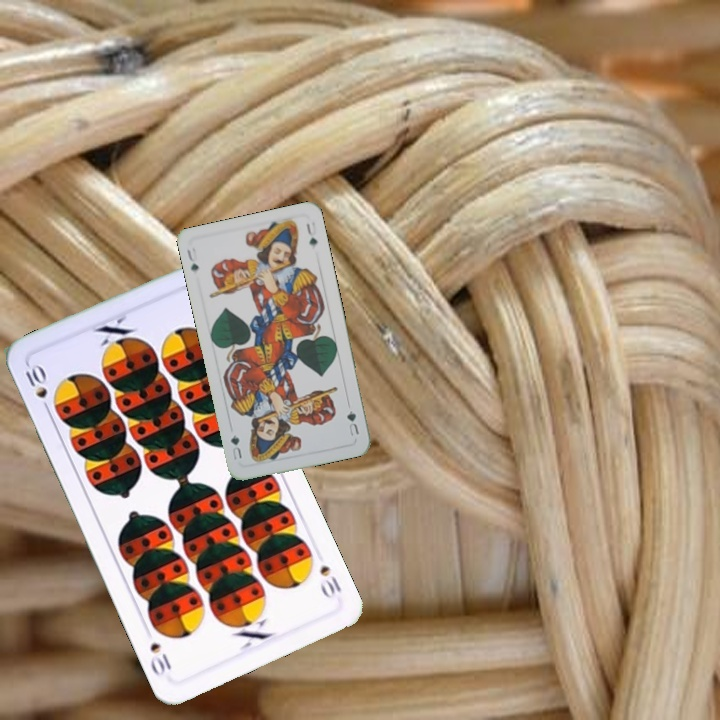GU: (343, 406, 362, 439), (183, 244, 201, 273)
S10: (21, 359, 53, 417), (315, 561, 344, 601)
